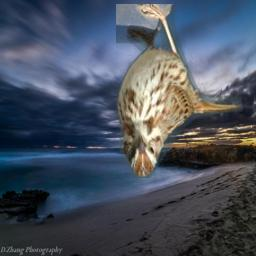Sparrow: (116, 4, 243, 178)
